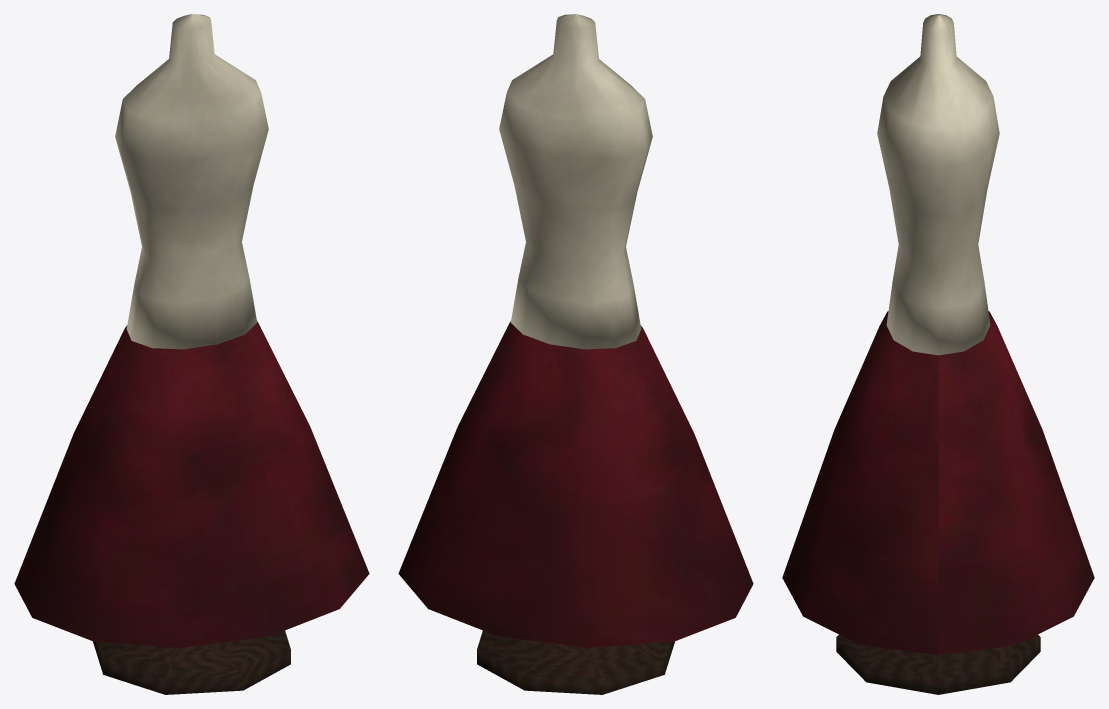
File: mannequin.glb
The picture shows the model from 3 angles, left to right: view 1: azimuth 30°, elevation 25°; view 2: azimuth 150°, elevation 25°; view 3: azimuth 270°, elevation 25°; orthographic projection.
Parts seen in each view (by area): view 1: mannequin; view 2: mannequin; view 3: mannequin.
Boxes of the visible parts, bbox=[...] form: mannequin: bbox=[14, 14, 369, 694]; mannequin: bbox=[398, 14, 753, 694]; mannequin: bbox=[782, 14, 1094, 694].
Size of the model in its own units: 0.9 by 1.72 by 0.765.
Materials: 3 (3 with a texture image).
